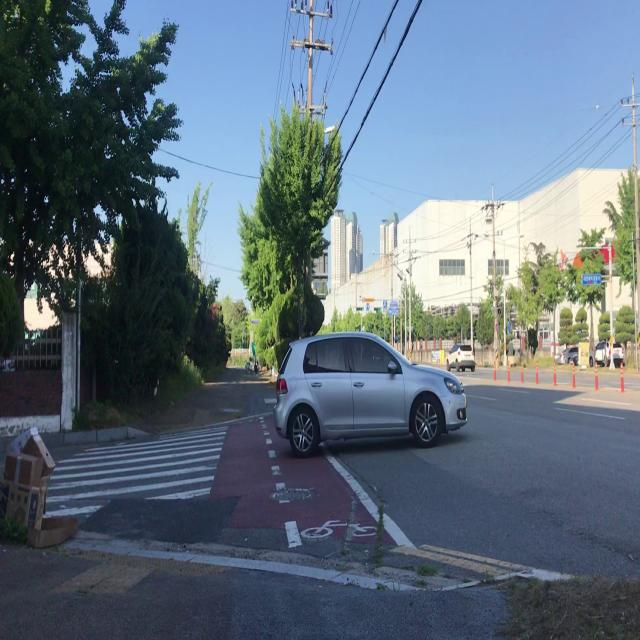횡단보도: (42, 424, 229, 521)
